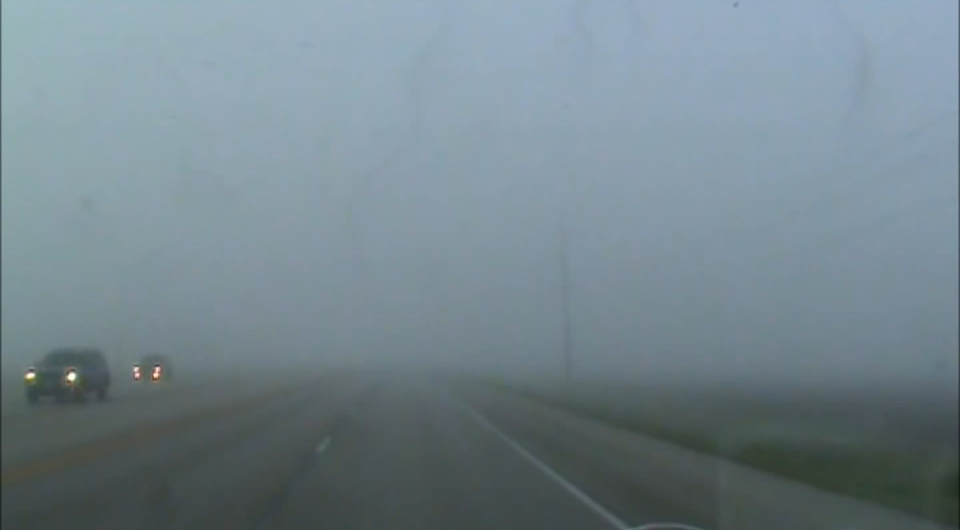car: (24, 346, 110, 403), (131, 354, 174, 385)
